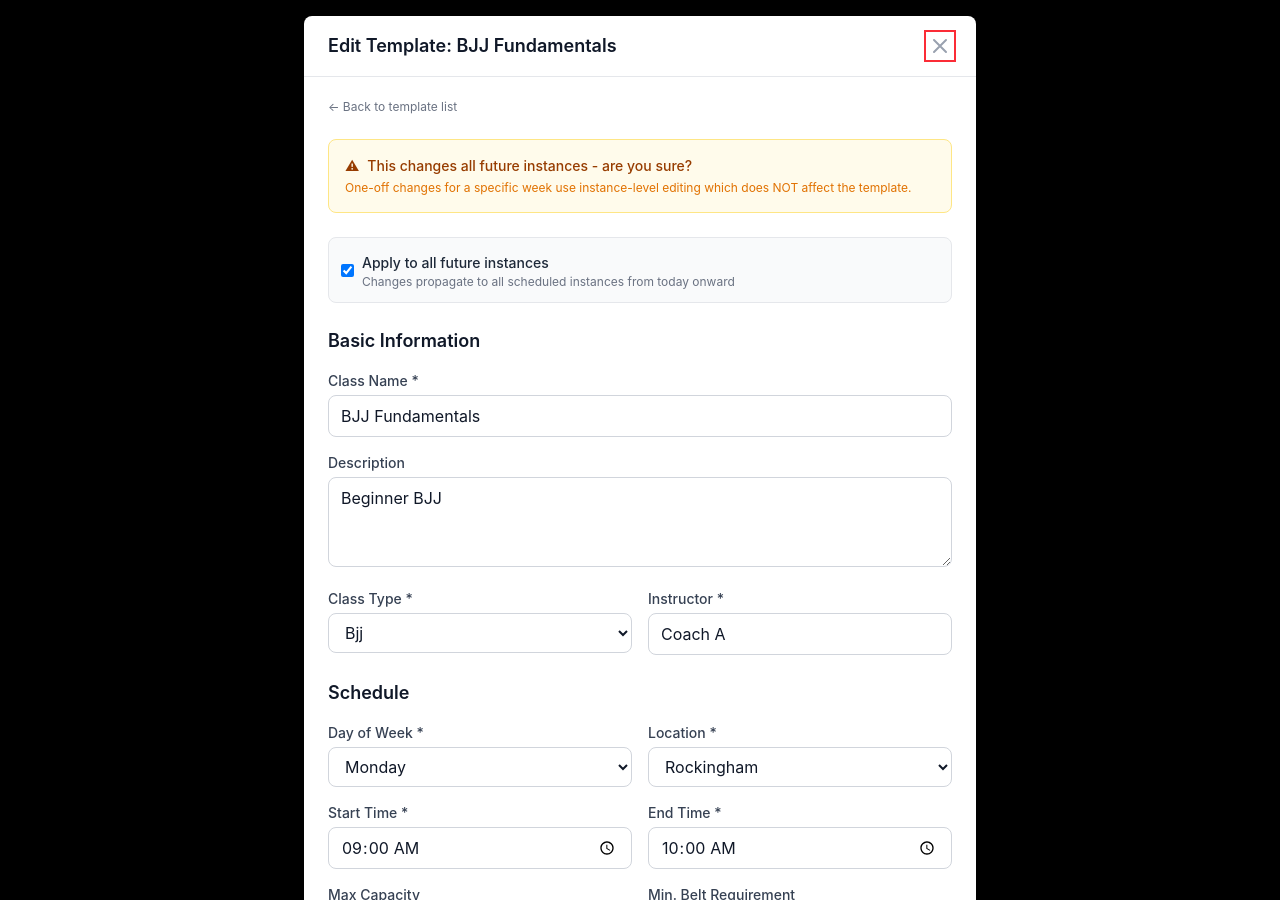
EditTemplateModal › shows validation errors on empty submit
Clear the field showing "BJJ Fundamentals" below "Class Name *" at (640, 416), box x1=328 y1=395 x2=952 y2=437
(page scrolled)
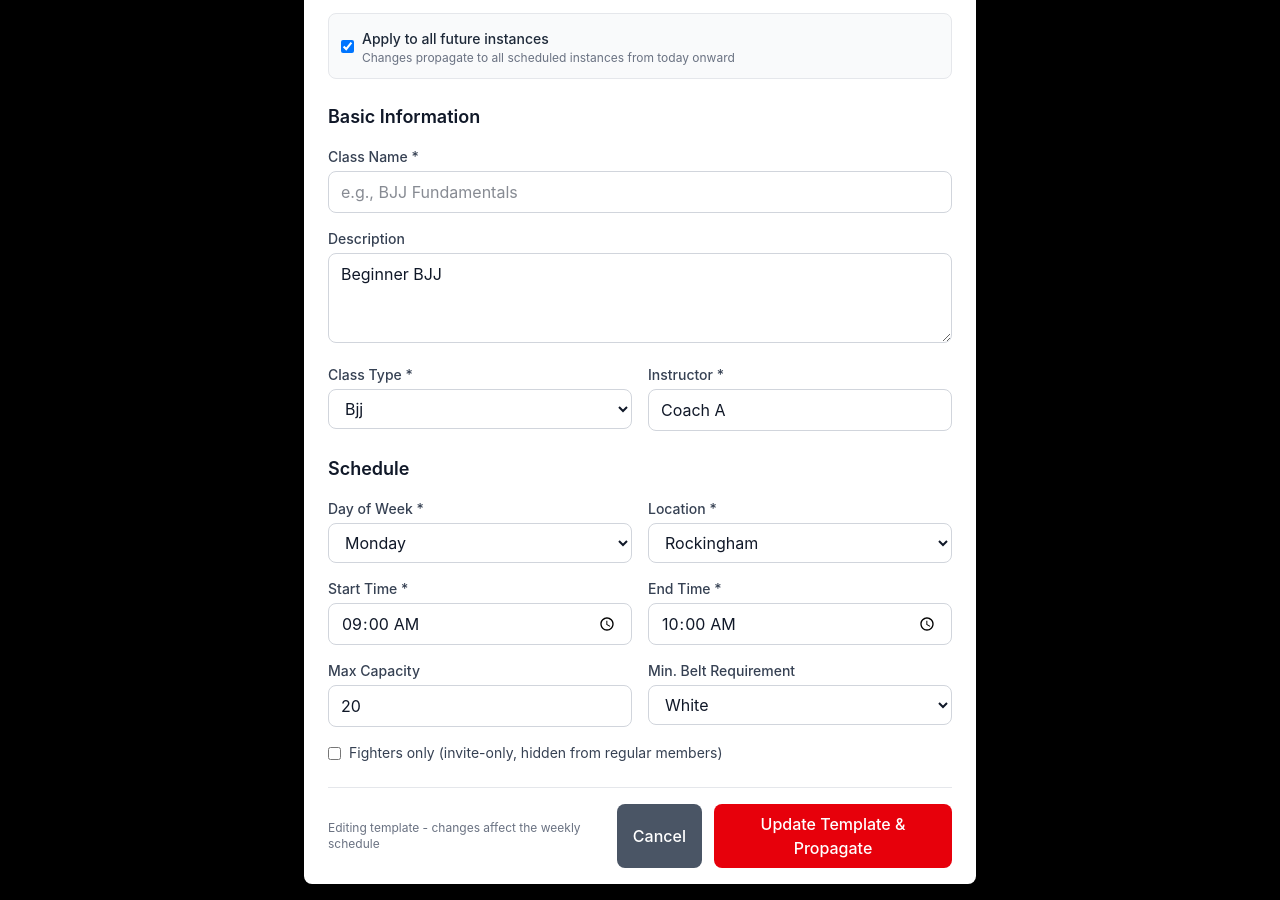
Click the button "Update Template & Propagate" at (833, 836), box x1=714 y1=804 x2=952 y2=868
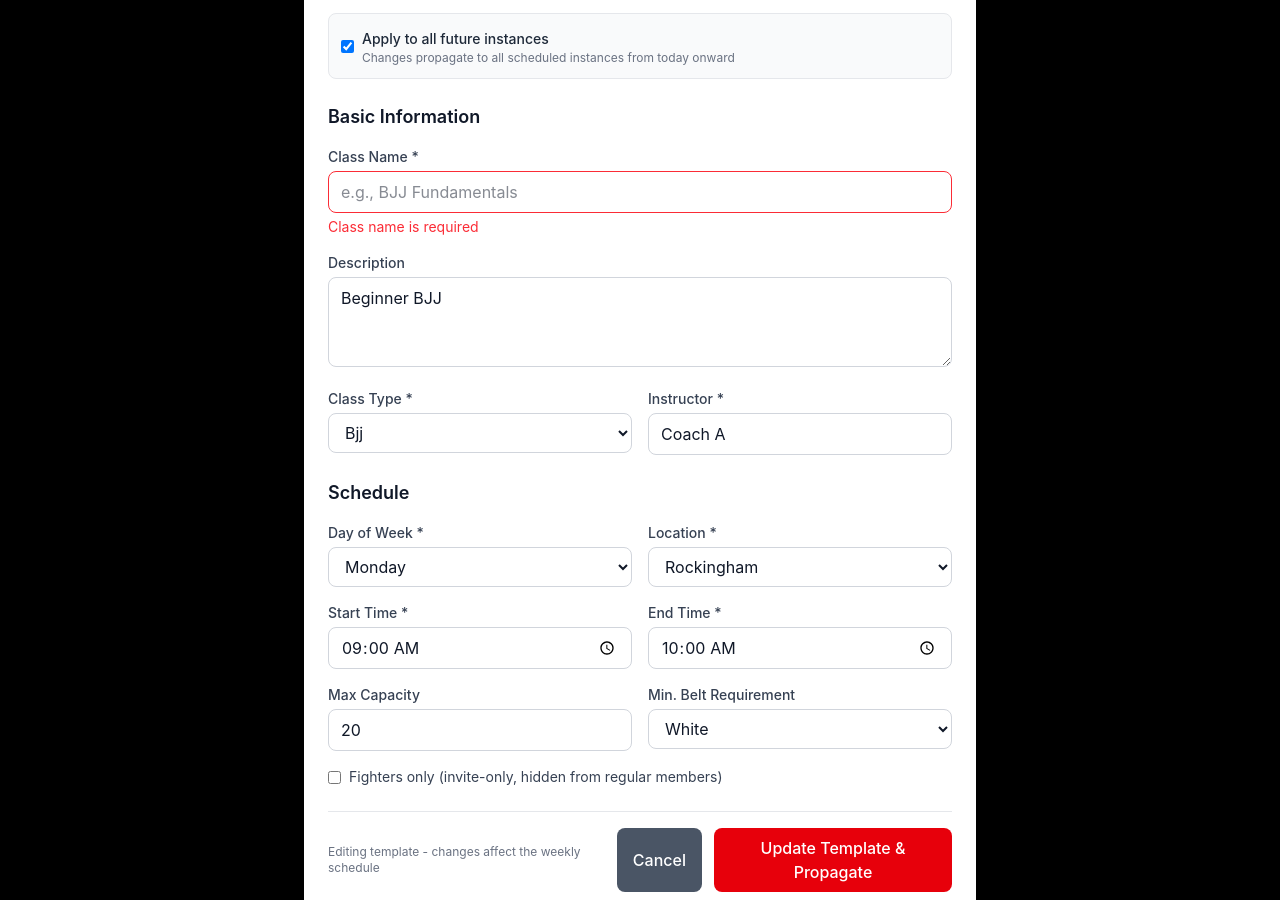
expect the text "Class name is required" is shown: met, box x1=328 y1=218 x2=479 y2=235
